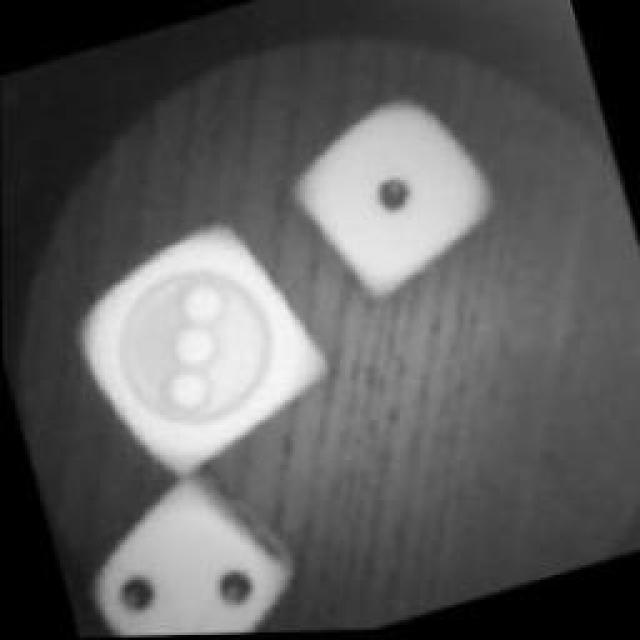dice_1: (271, 75, 509, 317)
dice_2: (72, 458, 308, 638)
dice_3: (47, 196, 345, 499)
